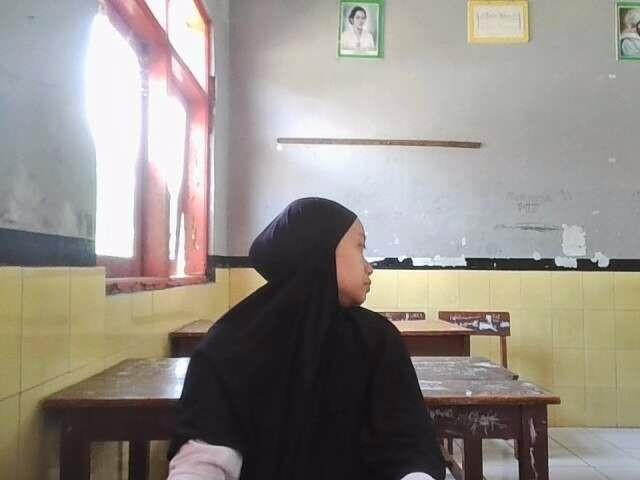cheating: (162, 171, 450, 478)
